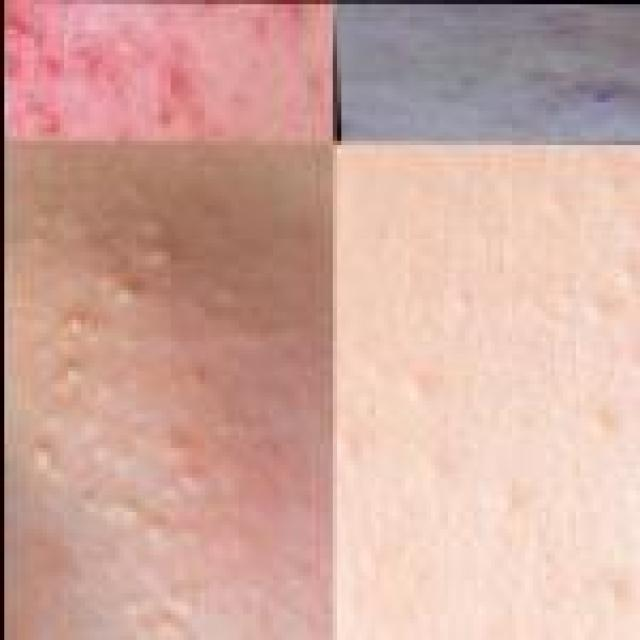cyst: (145, 61, 187, 110)
